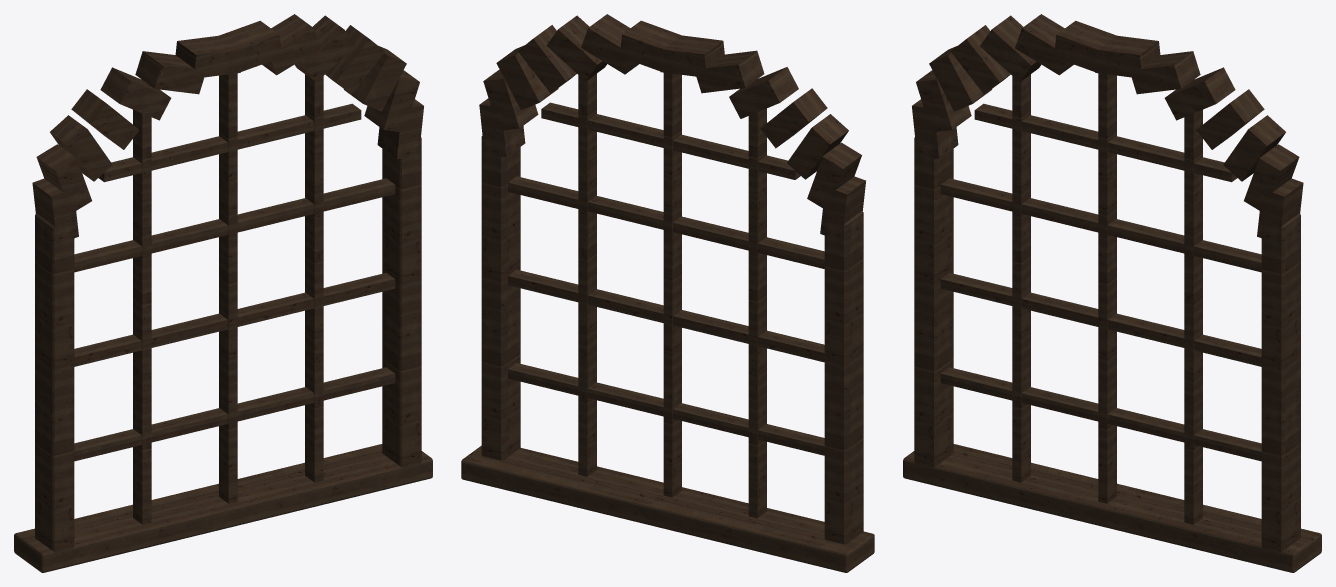
The model's file is arched_window.glb.
The picture shows the model from 3 angles, left to right: view 1: azimuth 30°, elevation 25°; view 2: azimuth 150°, elevation 25°; view 3: azimuth 330°, elevation 25°; orthographic projection.
Visible parts, largest first — view 1: Cube.002, Cube, Cube.001, Cube.018, Cube.017, Cube.019, Cube.022, Cube.020, Cube.021, Cube.023, Cube.009, Cube.011 (+12 smaller); view 2: Cube.002, Cube, Cube.001, Cube.018, Cube.017, Cube.019, Cube.020, Cube.022, Cube.021, Cube.023, Cube.011, Cube.010 (+12 smaller); view 3: Cube.002, Cube.001, Cube, Cube.018, Cube.019, Cube.017, Cube.022, Cube.020, Cube.021, Cube.023, Cube.009, Cube.008 (+12 smaller).
Boxes of the visible parts, x1,y1,x2,y2 form: Cube.002: (14,444,432,572); Cube: (35,213,74,552); Cube.001: (382,137,421,473); Cube.018: (219,73,237,503); Cube.017: (133,109,151,524); Cube.019: (305,74,323,482); Cube.022: (74,178,395,272); Cube.020: (74,367,395,461); Cube.021: (74,272,395,366); Cube.023: (99,103,361,182); Cube.009: (219,20,281,73); Cube.011: (135,51,205,94); Cube.002: (461,445,874,572); Cube: (824,211,863,544); Cube.001: (481,136,520,460); Cube.018: (663,73,681,497); Cube.017: (748,108,766,518); Cube.019: (578,73,596,476); Cube.020: (508,363,824,455); Cube.022: (508,176,824,268); Cube.021: (508,269,824,362); Cube.023: (541,102,800,179); Cube.011: (694,50,764,93); Cube.010: (658,35,724,77); Cube.002: (903,444,1321,572); Cube.001: (1261,213,1300,558); Cube: (914,137,953,474); Cube.018: (1098,73,1116,503); Cube.019: (1184,109,1202,524); Cube.017: (1012,74,1030,482); Cube.022: (940,178,1261,272); Cube.020: (940,367,1261,461); Cube.021: (940,272,1261,366); Cube.023: (974,103,1236,182); Cube.009: (1093,35,1160,78); Cube.008: (1129,51,1200,94).
Size of the model in its own units: 2.82 by 3.31 by 0.36.
1 material, 1 textured.
